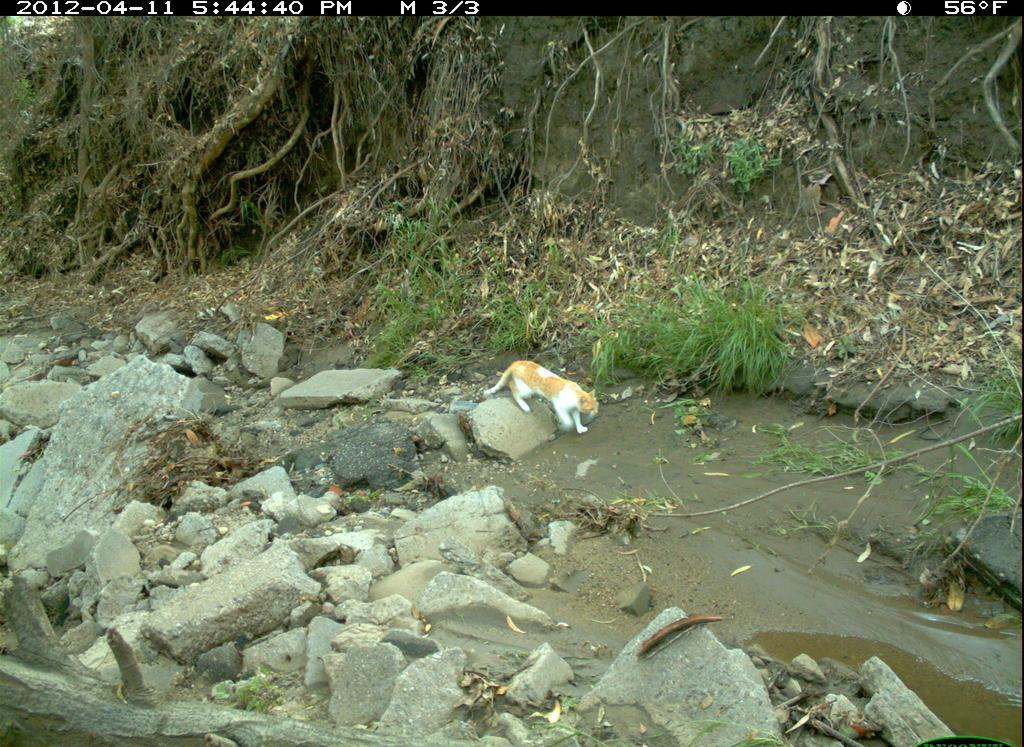cat: (483, 351, 606, 449)
